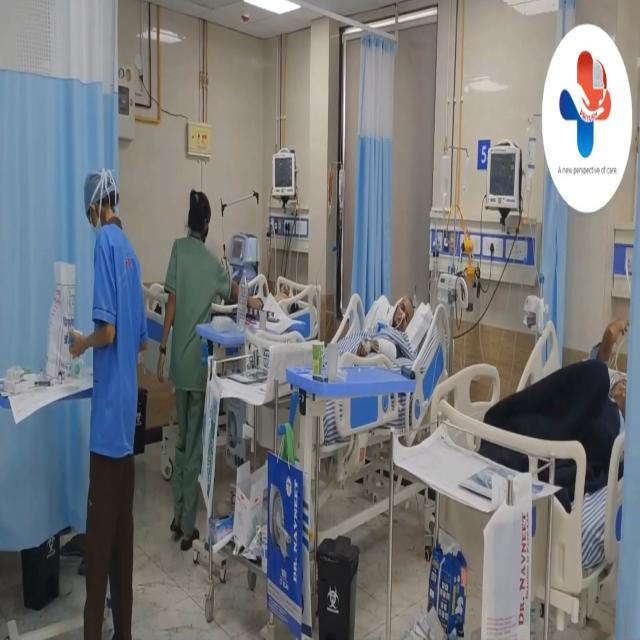Nurse: (70, 142, 146, 640), (157, 172, 234, 542)
Patient: (568, 307, 632, 491), (384, 256, 423, 375), (266, 273, 311, 354)
